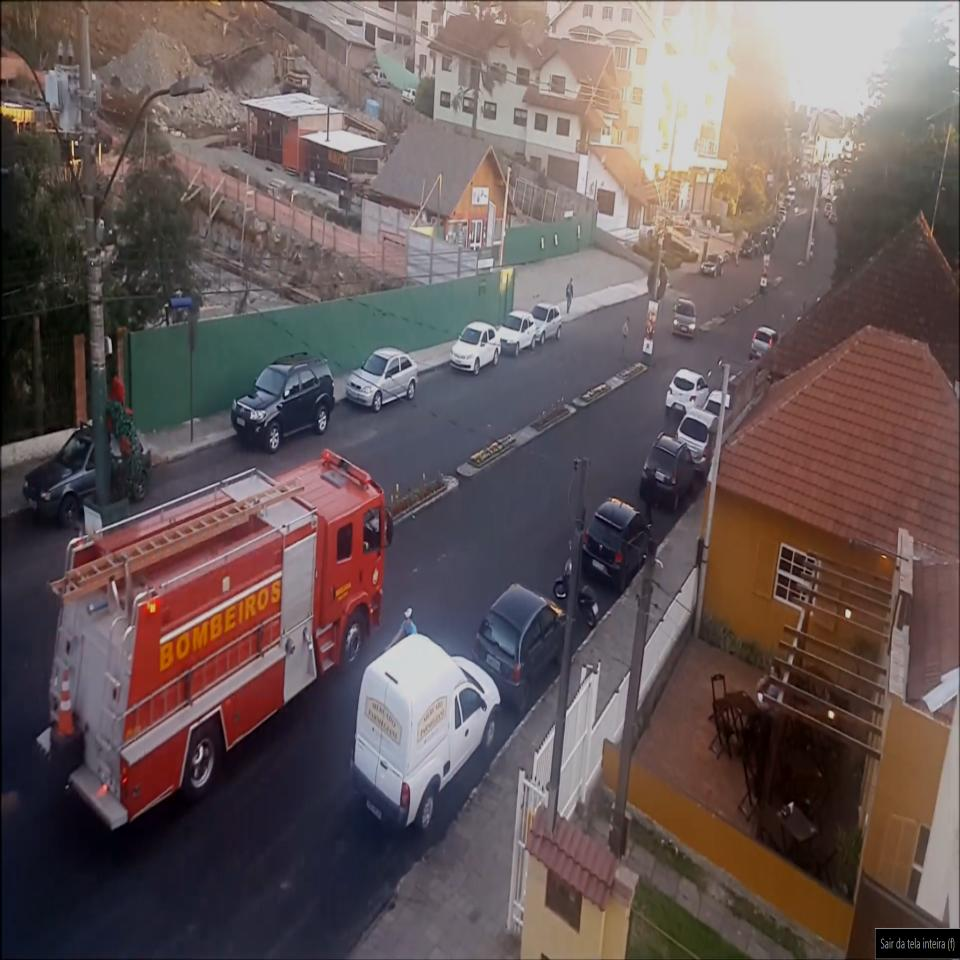bombeiro: (43, 448, 398, 835)
